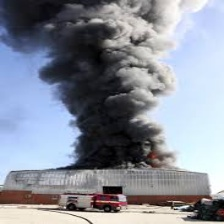smoke: (14, 1, 195, 165)
